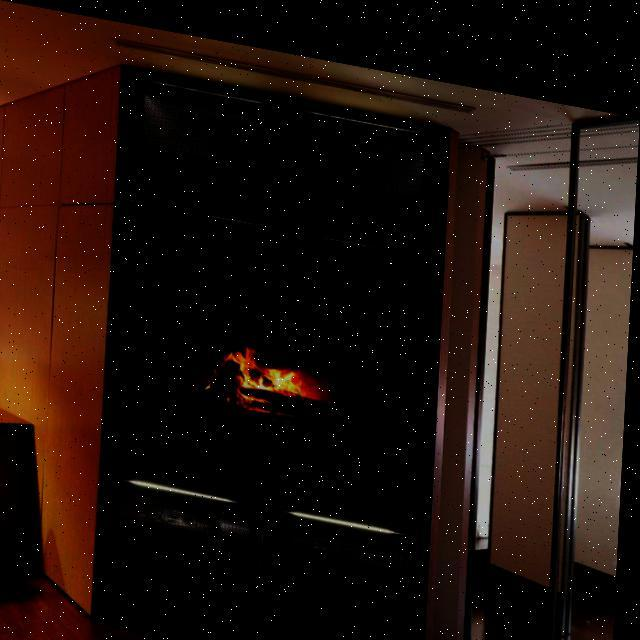Fire: (208, 331, 325, 420)
